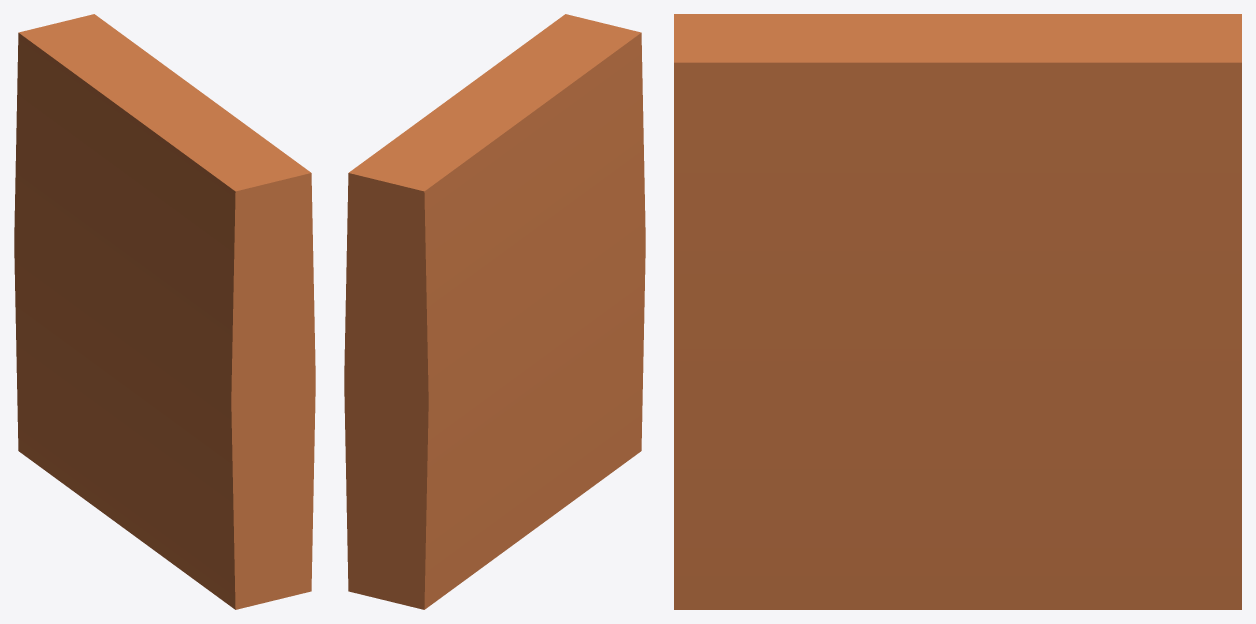
Rendered from intro_prop(wall_house)_01.FBX.
The picture shows the model from 3 angles, left to right: view 1: azimuth 30°, elevation 25°; view 2: azimuth 150°, elevation 25°; view 3: azimuth 270°, elevation 25°; orthographic projection. The views are drawn at different scales.
Parts seen in each view (by area): view 1: wall_house001; view 2: wall_house001; view 3: wall_house001.
Boxes of the visible parts, x1=… form: wall_house001: x1=14, y1=14, x2=315, y2=609; wall_house001: x1=344, y1=14, x2=645, y2=609; wall_house001: x1=674, y1=14, x2=1241, y2=609.
Size of what is drawn, in the model's own units: 39.11 by 185 by 174.
